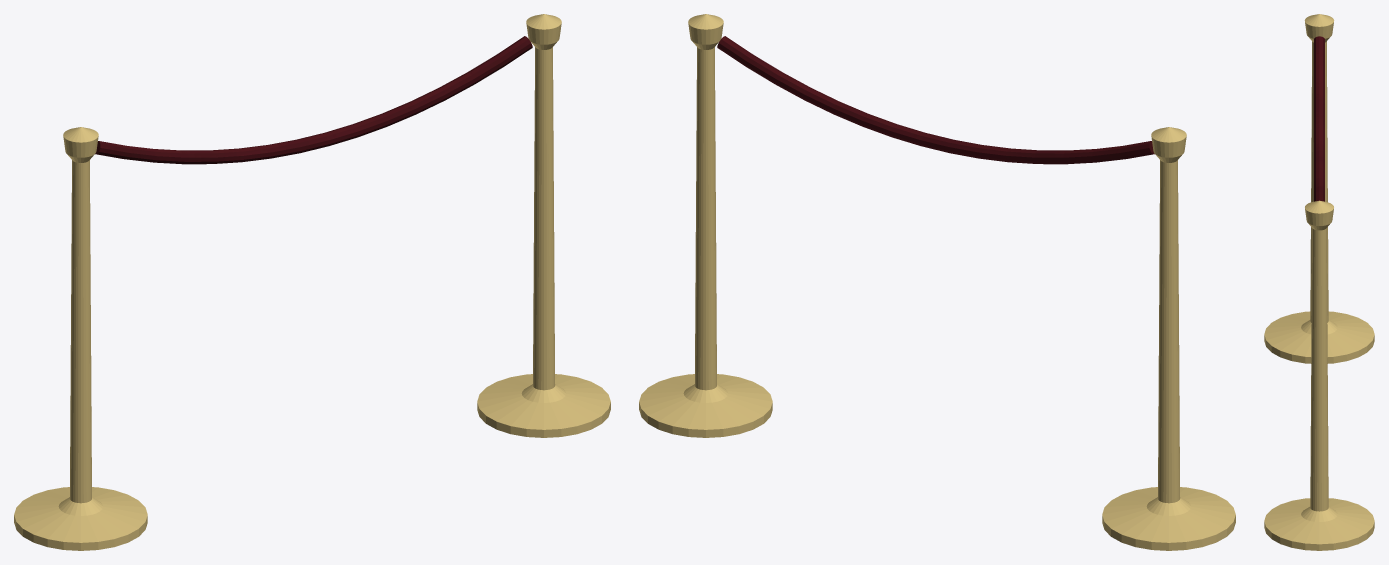
Rendered from pedestal_fila.glb.
The picture shows the model from 3 angles, left to right: view 1: azimuth 30°, elevation 25°; view 2: azimuth 150°, elevation 25°; view 3: azimuth 270°, elevation 25°; orthographic projection. The views are drawn at different scales.
Parts seen in each view (by area): view 1: pedestal_fila_ouro_velho, pedestal_fila_veludo_vinho; view 2: pedestal_fila_ouro_velho, pedestal_fila_veludo_vinho; view 3: pedestal_fila_ouro_velho, pedestal_fila_veludo_vinho.
Boxes of the visible parts, x1=… form: pedestal_fila_ouro_velho: x1=14, y1=14, x2=610, y2=550; pedestal_fila_veludo_vinho: x1=95, y1=36, x2=532, y2=164; pedestal_fila_ouro_velho: x1=639, y1=14, x2=1235, y2=550; pedestal_fila_veludo_vinho: x1=717, y1=36, x2=1154, y2=164; pedestal_fila_ouro_velho: x1=1264, y1=14, x2=1374, y2=550; pedestal_fila_veludo_vinho: x1=1314, y1=36, x2=1324, y2=201.
Bounding box in the file's own units: 1.5 × 0.98 × 0.3.
Materials: 2 (1 with a texture image).
